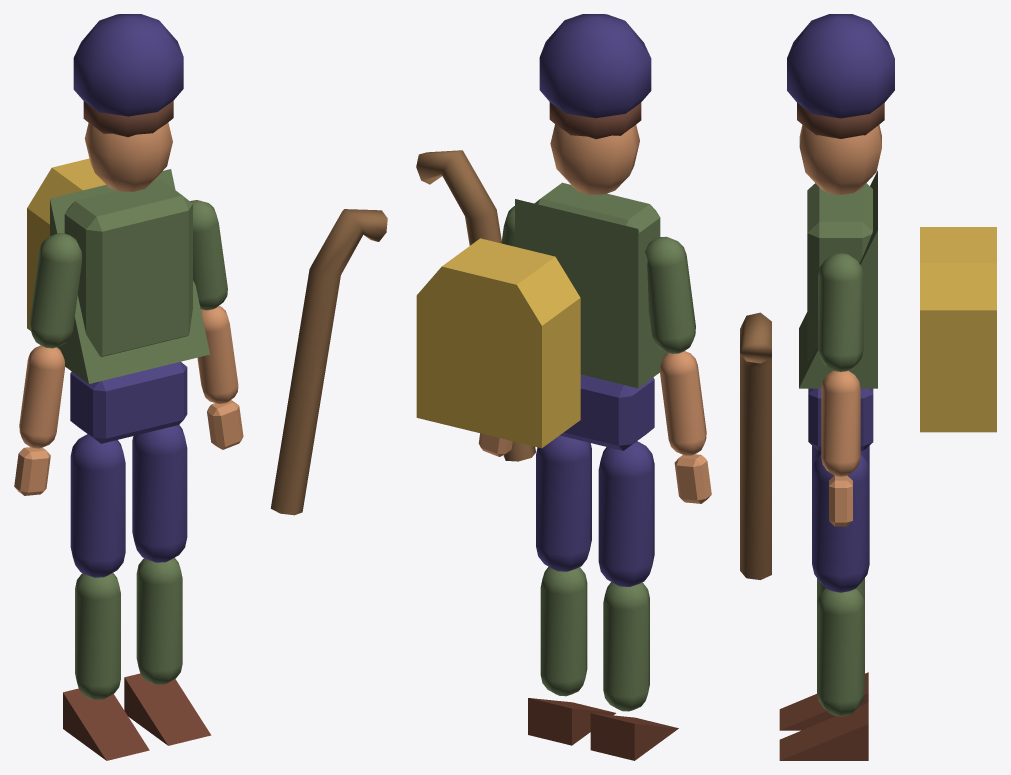
File: adventurer.rustic.glb
3 views of the same model, side by side, from view 1: azimuth 30°, elevation 25°; view 2: azimuth 150°, elevation 25°; view 3: azimuth 270°, elevation 25° (orthographic).
Parts seen in each view (by area): view 1: torso, accessory.main-hand, accessory.head, thigh.left, pelvis, thigh.right, tunic, shin.right, shin.left, upper-arm.left, head, foot.right (+8 smaller); view 2: accessory.back, tunic, accessory.head, thigh.left, thigh.right, shin.right, shin.left, pelvis, upper-arm.left, head, accessory.main-hand, forearm.left (+6 smaller); view 3: accessory.back, accessory.head, accessory.main-hand, shin.right, thigh.right, torso, upper-arm.right, head, tunic, forearm.right, foot.right, hair (+3 smaller).
Part boxes in pixels (x1,y1,x2,y2): torso: [64, 180, 192, 356]; accessory.main-hand: [270, 209, 387, 515]; accessory.head: [73, 14, 183, 116]; thigh.left: [70, 434, 125, 577]; pelvis: [70, 361, 187, 443]; thigh.right: [132, 425, 187, 562]; tunic: [50, 169, 210, 383]; shin.right: [136, 557, 182, 684]; shin.left: [75, 573, 120, 699]; upper-arm.left: [29, 233, 82, 348]; head: [84, 122, 172, 191]; foot.right: [124, 673, 211, 745]; accessory.back: [416, 238, 580, 448]; tunic: [515, 199, 668, 388]; accessory.head: [539, 14, 651, 118]; thigh.left: [598, 441, 654, 586]; thigh.right: [536, 435, 591, 571]; shin.right: [540, 566, 587, 696]; shin.left: [603, 582, 649, 711]; pelvis: [560, 374, 654, 450]; upper-arm.left: [645, 236, 695, 353]; head: [550, 124, 639, 194]; accessory.main-hand: [416, 150, 535, 461]; forearm.left: [660, 351, 706, 455]; accessory.back: [920, 227, 996, 432]; accessory.head: [787, 14, 894, 118]; accessory.main-hand: [740, 312, 771, 579]; shin.right: [817, 588, 864, 716]; thigh.right: [812, 454, 869, 592]; torso: [807, 183, 872, 360]; upper-arm.right: [818, 253, 863, 371]; head: [799, 125, 881, 194]; tunic: [799, 170, 877, 388]; forearm.right: [821, 370, 860, 476]; foot.right: [779, 702, 868, 760]; hair: [797, 103, 884, 138].
Size of the model in its own units: 1.58 by 3.29 by 1.07.
